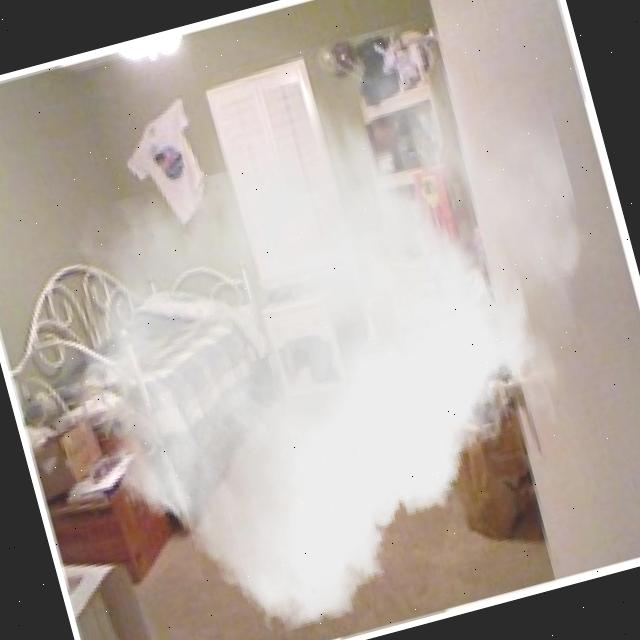smoke: (17, 0, 640, 640)
